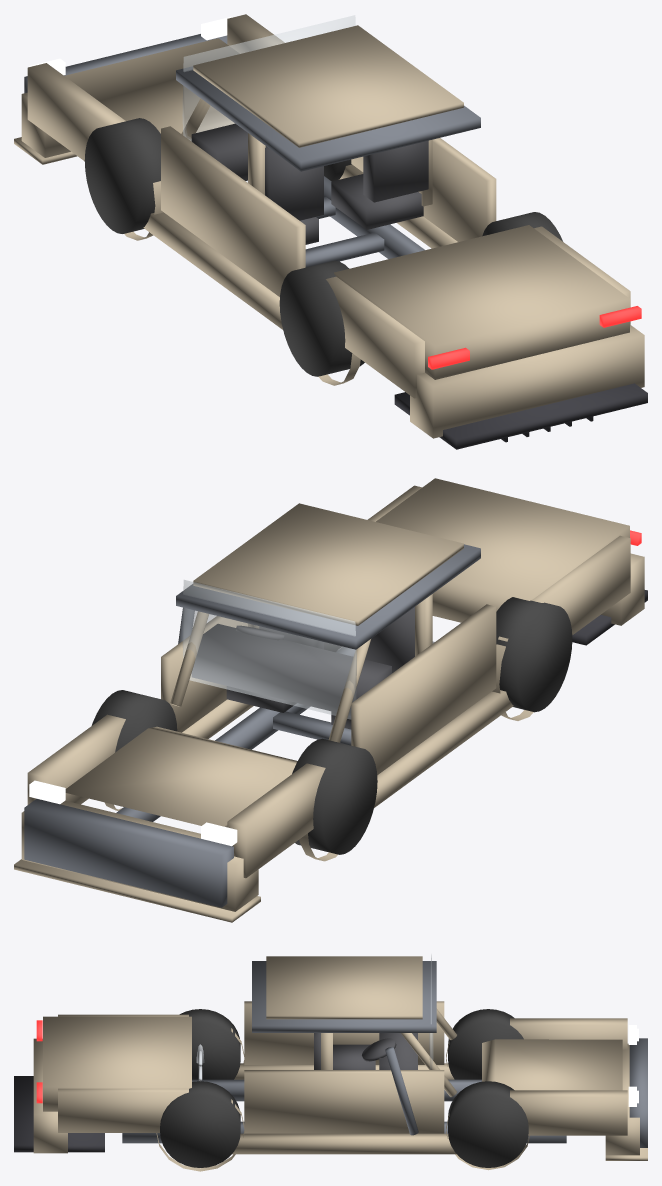
Rendered from offroad_4x4_complete.glb.
3 renders of one model, top to bottom at view 1: azimuth 30°, elevation 25°; view 2: azimuth 150°, elevation 25°; view 3: azimuth 270°, elevation 25°, orthographic. The views are drawn at different scales.
Visible parts, largest first — view 1: BODY_RearClip, BODY_Cabin, BODY_FrontClip, INTERIOR_Cockpit, Offroad_Accessories, WHEEL_FR, WHEEL_RR, AERO_Diffuser, CHASSIS_Main, GLASS_Windshield, WHEEL_RL; view 2: BODY_Cabin, BODY_FrontClip, BODY_RearClip, Offroad_Accessories, GLASS_Windshield, INTERIOR_Cockpit, WHEEL_RR, WHEEL_FR, CHASSIS_Main, WHEEL_FL, AERO_Diffuser, LIGHT_Headlamp_L (+1 smaller); view 3: BODY_Cabin, BODY_RearClip, BODY_FrontClip, Offroad_Accessories, WHEEL_FL, WHEEL_RL, WHEEL_FR, WHEEL_RR, INTERIOR_Cockpit, AERO_Diffuser, CHASSIS_Main.
Boxes of the visible parts, x1,y1,x2,y2 form: BODY_RearClip: (318,225,644,438); BODY_Cabin: (143,25,496,329); BODY_FrontClip: (14,14,284,240); INTERIOR_Cockpit: (191,123,428,244); Offroad_Accessories: (24,34,480,171); WHEEL_FR: (84,118,160,233); WHEEL_RR: (279,260,364,376); AERO_Diffuser: (394,383,647,449); CHASSIS_Main: (305,176,424,267); GLASS_Windshield: (182,15,355,141); WHEEL_RL: (482,212,562,241); BODY_Cabin: (161,503,513,807); BODY_FrontClip: (14,714,337,922); BODY_RearClip: (367,478,644,720); Offroad_Accessories: (24,544,480,907); GLASS_Windshield: (182,580,356,719); INTERIOR_Cockpit: (191,607,414,729); WHEEL_RR: (496,597,572,712); WHEEL_FR: (292,738,377,854); CHASSIS_Main: (116,646,355,821); WHEEL_FL: (91,690,177,752); AERO_Diffuser: (572,590,647,645); LIGHT_Headlamp_L: (29,780,65,804); BODY_Cabin: (232,956,456,1154); BODY_RearClip: (33,1014,244,1171); BODY_FrontClip: (446,1018,647,1170); Offroad_Accessories: (252,961,647,1147); WHEEL_FL: (448,1081,528,1167); WHEEL_RL: (160,1081,240,1167); WHEEL_FR: (448,1009,523,1079); WHEEL_RR: (179,1009,240,1079); INTERIOR_Cockpit: (314,1033,417,1069); AERO_Diffuser: (14,1076,104,1152); CHASSIS_Main: (122,1079,566,1143).
Bounding box in the file's own units: 2.01 × 1.66 × 6.28.
